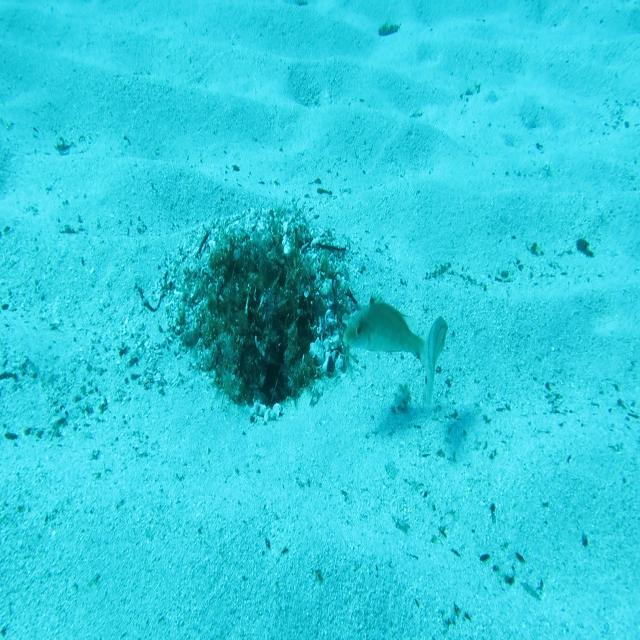BK_SW: (341, 287, 428, 367)
core_nest: (234, 252, 289, 292)
female: (422, 313, 449, 412)
nest: (159, 192, 367, 434)
vegetation: (378, 22, 398, 38)
